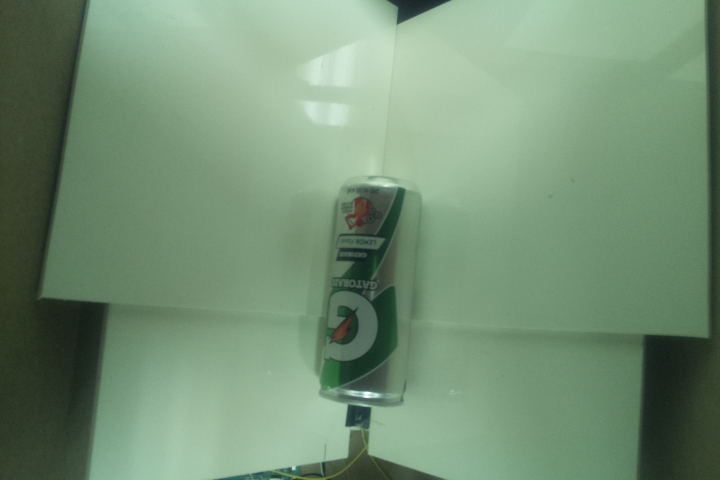can: (312, 177, 423, 409)
